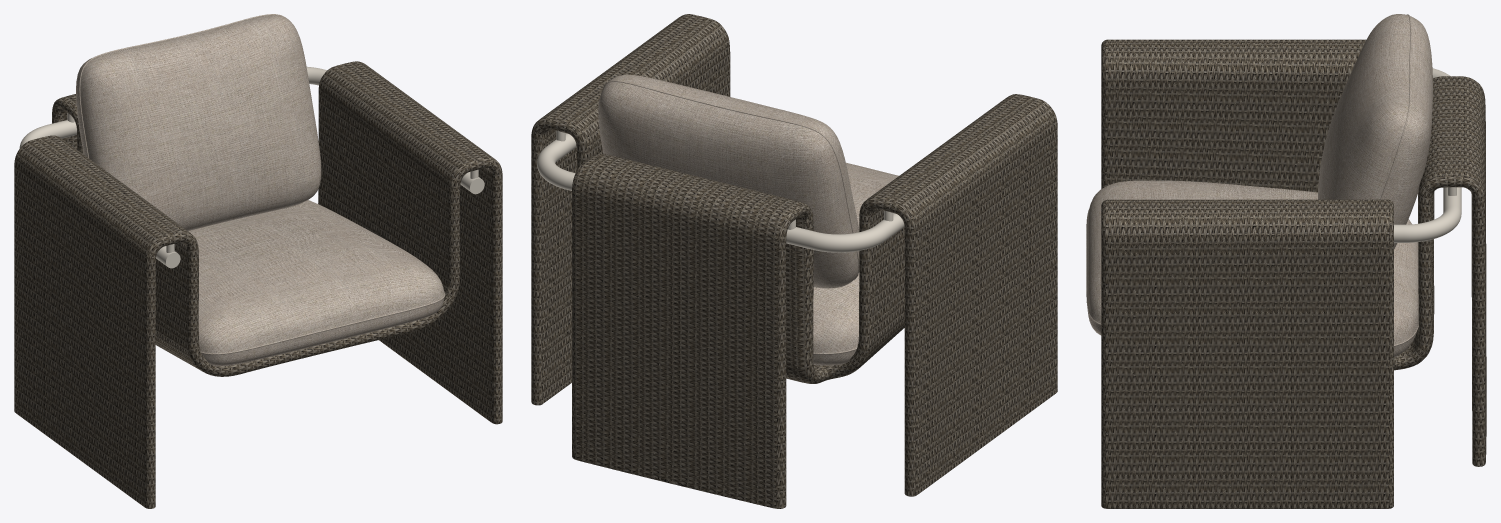
File: kawa-single-seater-sofa.glb
3 renders of one model, left to right at view 1: azimuth 30°, elevation 25°; view 2: azimuth 150°, elevation 25°; view 3: azimuth 270°, elevation 25°, orthographic. The views are drawn at different scales.
Visible parts, largest first — view 1: Single seater sofa, Single seater sofa.207, Single seater sofa.003; view 2: Single seater sofa, Single seater sofa.207, Single seater sofa.003; view 3: Single seater sofa, Single seater sofa.207, Single seater sofa.003.
Part boxes in pixels (x1,y1,x2,y2): Single seater sofa: (14, 61, 502, 508); Single seater sofa.207: (76, 14, 445, 366); Single seater sofa.003: (19, 66, 491, 422); Single seater sofa: (531, 14, 1057, 508); Single seater sofa.207: (598, 74, 898, 365); Single seater sofa.003: (537, 130, 904, 403); Single seater sofa: (1101, 39, 1486, 508); Single seater sofa.207: (1086, 14, 1432, 356); Single seater sofa.003: (1394, 68, 1461, 242).
Size of the model in its own units: 9.23 by 8.12 by 8.3.
3 materials, 2 textured.
